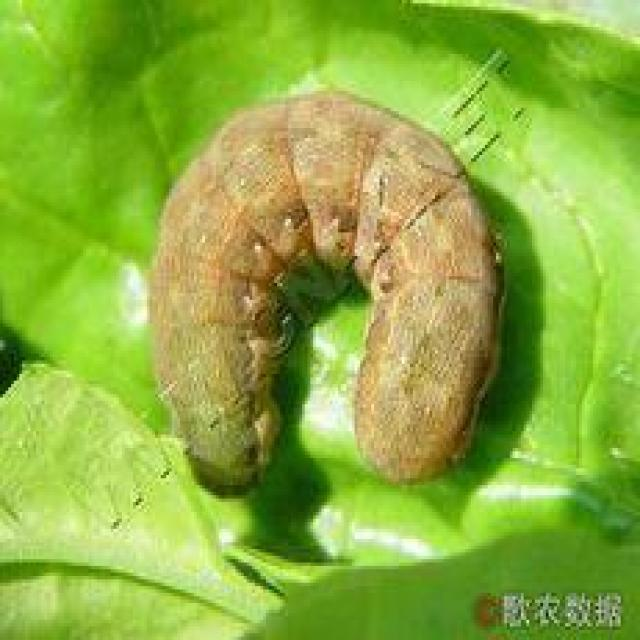BeetArmyWorm-Larva-: (135, 76, 522, 500)
